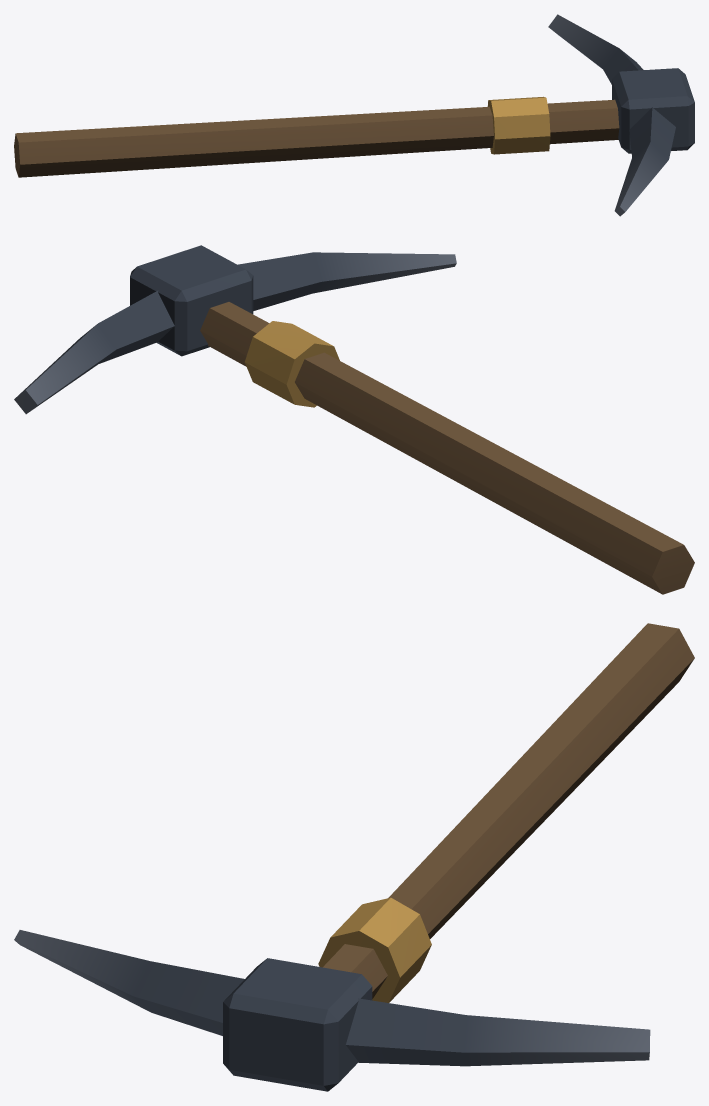
File: ph_item_pickaxe_master.glb
The picture shows the model from 3 angles, top to bottom: view 1: azimuth 30°, elevation 25°; view 2: azimuth 150°, elevation 25°; view 3: azimuth 270°, elevation 25°; orthographic projection. The views are drawn at different scales.
Visible parts, largest first — view 1: ph_item_pickaxe_master; view 2: ph_item_pickaxe_master; view 3: ph_item_pickaxe_master.
Boxes of the visible parts, x1,y1,x2,y2 form: ph_item_pickaxe_master: [14, 14, 694, 216]; ph_item_pickaxe_master: [14, 245, 694, 594]; ph_item_pickaxe_master: [14, 623, 694, 1091].
Size of the model in its own units: 0.3497 by 0.0356 by 0.2406.
